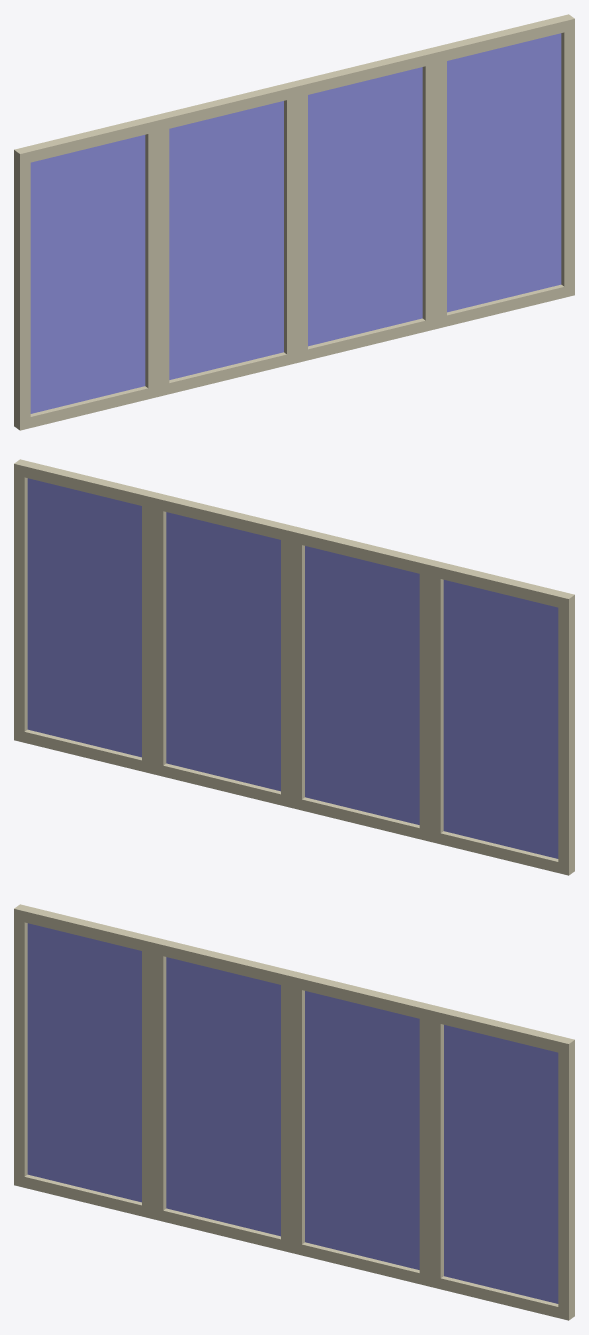
Rendered from Elementary_Window_2.fbx.
3 views of the same model, one above another, from view 1: azimuth 30°, elevation 25°; view 2: azimuth 150°, elevation 25°; view 3: azimuth 330°, elevation 25° (orthographic).
Parts seen in each view (by area): view 1: WindowHole.011, Classroom Window; view 2: WindowHole.011, Classroom Window; view 3: WindowHole.011, Classroom Window.
Boxes of the visible parts, x1,y1,x2,y2 form: WindowHole.011: (30, 33, 561, 413); Classroom Window: (14, 14, 574, 430); WindowHole.011: (27, 478, 558, 858); Classroom Window: (14, 459, 574, 875); WindowHole.011: (27, 923, 558, 1303); Classroom Window: (14, 904, 574, 1320).
Bounding box in the file's own units: 210 × 100 × 4.
2 materials, 1 textured.
